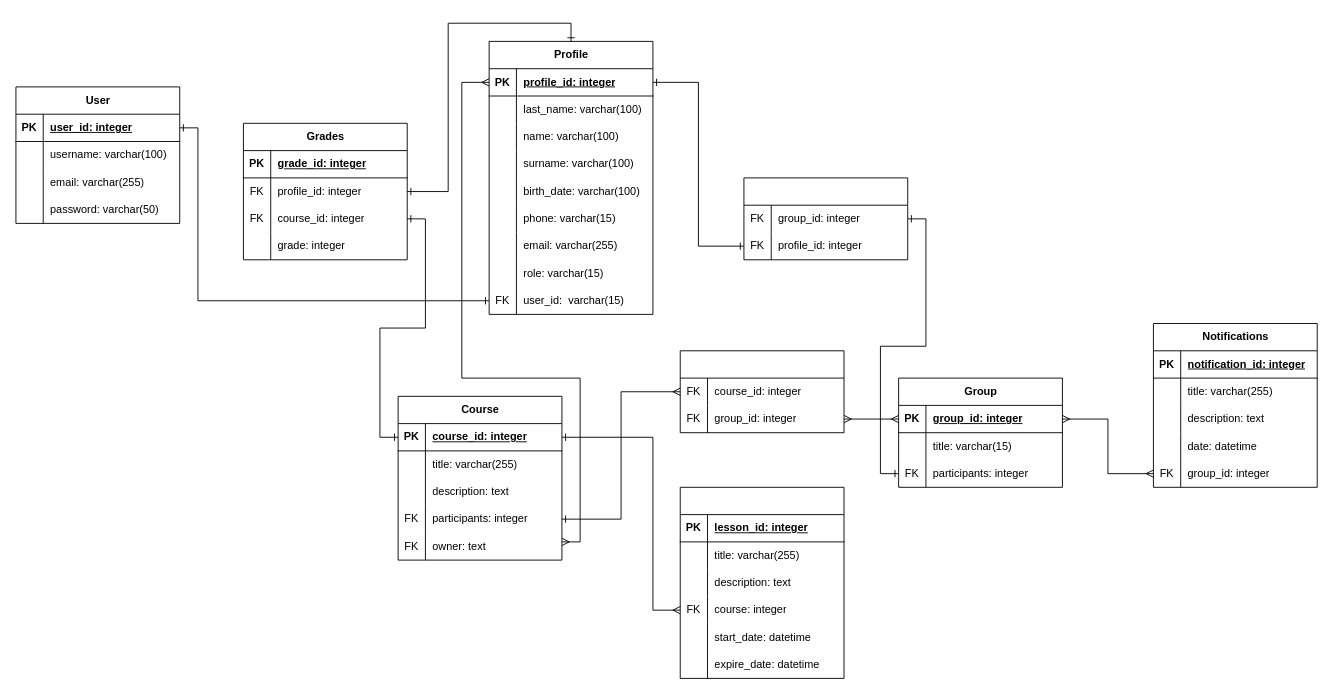
This 1333x694 diagram has some shape labels left out. The shapes that lost their labels are listed below. From the top down, each one's box as (x1, y1, x2, y2) in pixels, then its label:
(743, 177, 908, 260): GroupParticipants
(679, 350, 844, 433): CourseParticipants
(679, 486, 844, 678): Lessons
